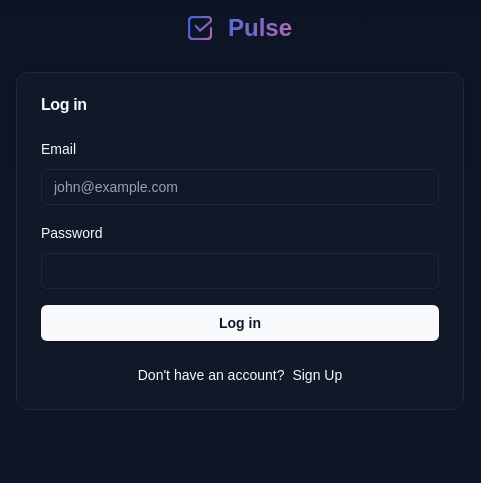
Test: User log in page › displays validation errors when the form is submitted with invalid values
Click the button: point(240, 323) [41,305,439,341]
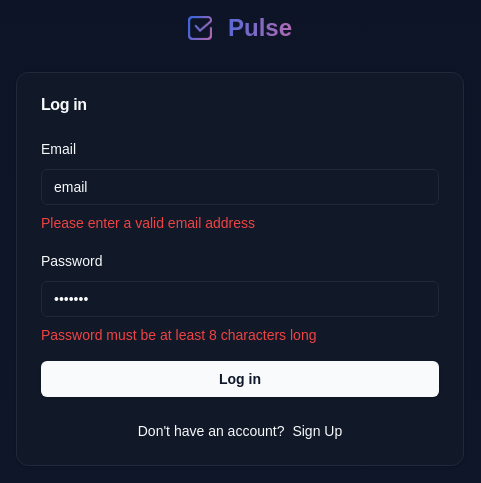
Expected: the text "Please enter a valid email address" is shown, [41,215,255,231]
Expected: the text "Password must be at least 8 characters long" is shown, [41,327,316,343]
